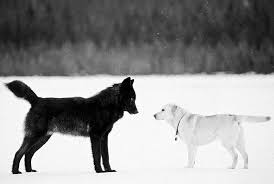Lobo: (6, 73, 144, 175)
